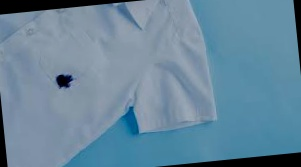ink: (56, 74, 74, 89)
